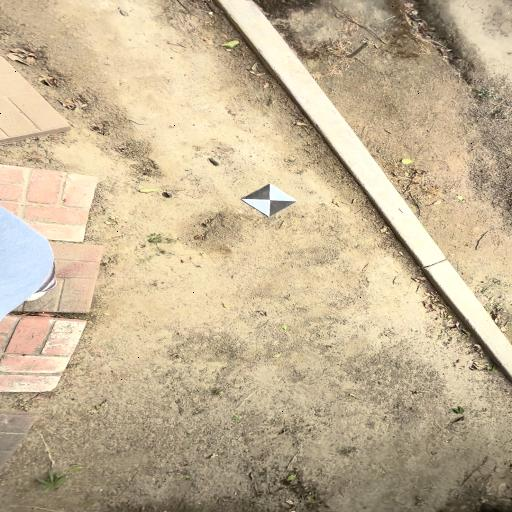target: (241, 184, 297, 217)
